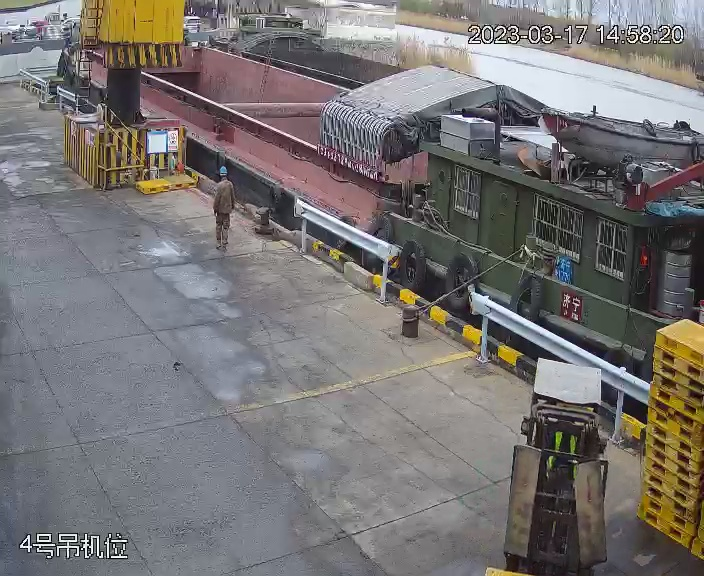head: (213, 165, 234, 194)
helmet: (219, 165, 227, 176)
people: (211, 163, 236, 252)
